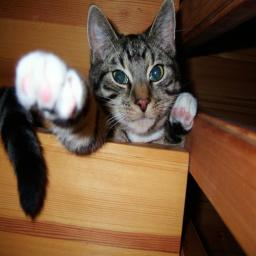catnose: (134, 98, 151, 113)
